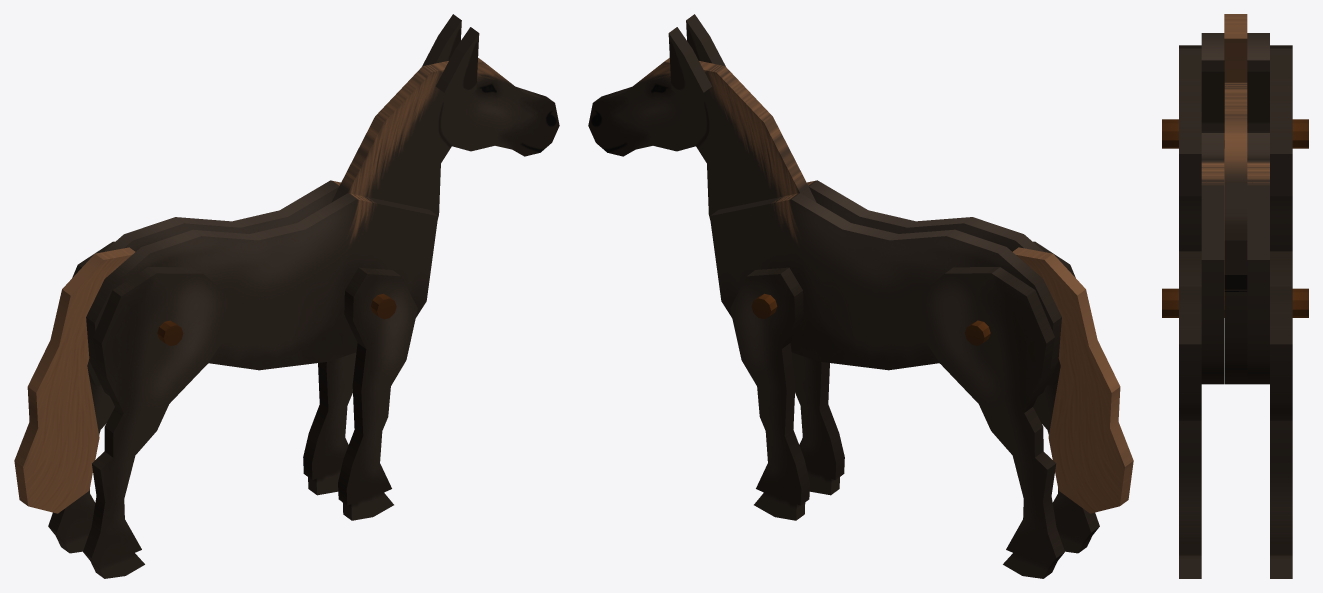
File: Horse_2.fbx
The picture shows the model from 3 angles, left to right: view 1: azimuth 30°, elevation 25°; view 2: azimuth 150°, elevation 25°; view 3: azimuth 270°, elevation 25°; orthographic projection. The views are drawn at different scales.
Parts seen in each view (by area): view 1: Horse_2_Body, Horse_2_Head; view 2: Horse_2_Body, Horse_2_Head; view 3: Horse_2_Body, Horse_2_Head.
Boxes of the visible parts, left/top/right/bottom form: Horse_2_Body: left=14, top=180, right=437, bottom=578; Horse_2_Head: left=331, top=14, right=559, bottom=219; Horse_2_Body: left=710, top=180, right=1133, bottom=578; Horse_2_Head: left=588, top=14, right=816, bottom=219; Horse_2_Body: left=1162, top=14, right=1308, bottom=578; Horse_2_Head: left=1201, top=60, right=1269, bottom=384.
Size of the model in its own units: 2.1 by 1.68 by 0.3801.
